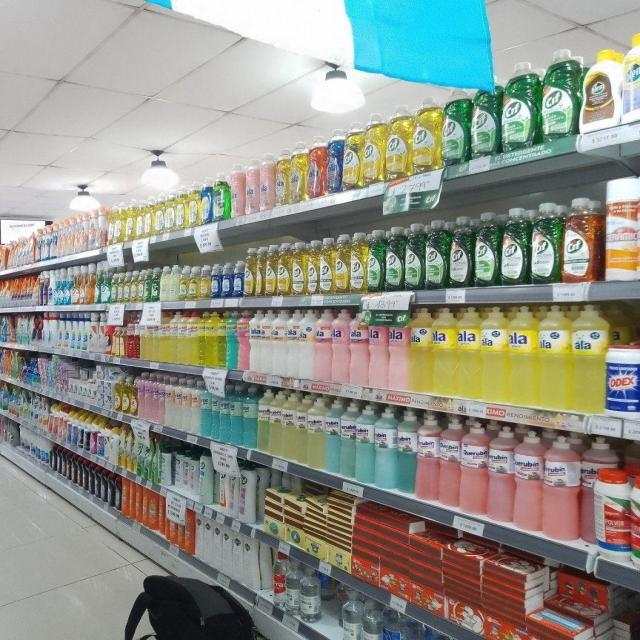ala_conc_amarillo: (290, 140, 308, 203), (276, 147, 290, 206)
ala_conc_azul: (326, 127, 343, 193)
ala_conc_rojo: (308, 133, 326, 198), (259, 153, 275, 211), (245, 157, 259, 214)
ala_crem_amarillo: (572, 304, 607, 414), (538, 304, 570, 411), (508, 305, 538, 407), (481, 306, 508, 404), (457, 306, 481, 400), (432, 307, 456, 397), (410, 308, 431, 394)
ala_crem_blanco: (249, 310, 270, 374), (298, 312, 315, 379), (271, 311, 286, 376), (286, 310, 298, 378)
ala_crem_rosado: (389, 308, 409, 391), (350, 311, 369, 387), (369, 312, 388, 388), (332, 310, 349, 384), (315, 310, 332, 382)
cif_conc_bot_amarilla: (582, 50, 619, 126), (412, 97, 440, 172), (386, 102, 410, 179), (362, 110, 384, 185), (343, 120, 362, 189), (350, 231, 367, 293), (334, 233, 350, 294), (292, 239, 307, 296), (320, 237, 334, 294), (277, 241, 291, 296), (307, 239, 319, 295), (264, 244, 276, 296), (244, 246, 255, 297), (256, 245, 265, 297)
cif_conc_botella_roja: (562, 196, 599, 284)
cif_conc_botella_verde: (540, 48, 579, 142), (501, 61, 538, 150), (530, 202, 561, 284), (501, 206, 529, 286), (441, 89, 469, 166), (471, 86, 499, 158), (474, 210, 499, 286), (449, 215, 473, 288), (425, 219, 448, 289), (404, 222, 423, 291), (385, 226, 403, 291), (368, 229, 384, 292), (97, 264, 106, 304)
heroe: (460, 421, 487, 516), (374, 408, 399, 491), (398, 410, 417, 494), (355, 405, 375, 483)
magistral_con_amarillo: (188, 180, 200, 227), (176, 183, 187, 230), (198, 264, 210, 299), (188, 264, 199, 300)
magistral_con_azul: (232, 260, 244, 298), (210, 263, 221, 299), (221, 263, 232, 298)
